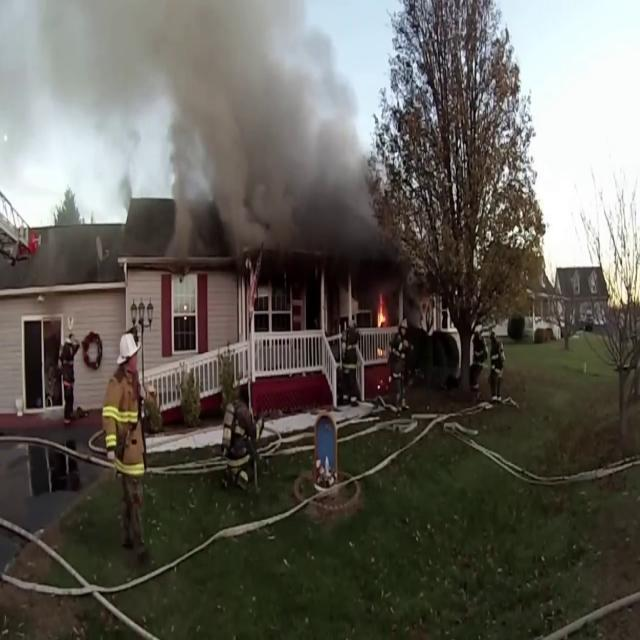Fire: (375, 292, 389, 333)
Smoke: (4, 0, 387, 253)
